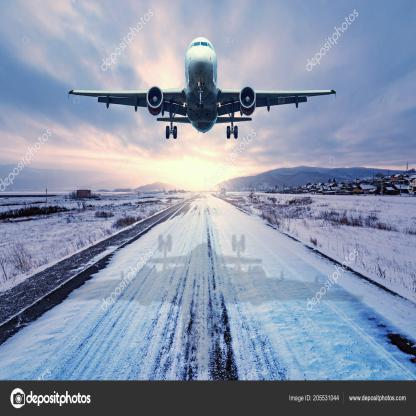CIV_Plane: (64, 34, 342, 148)
